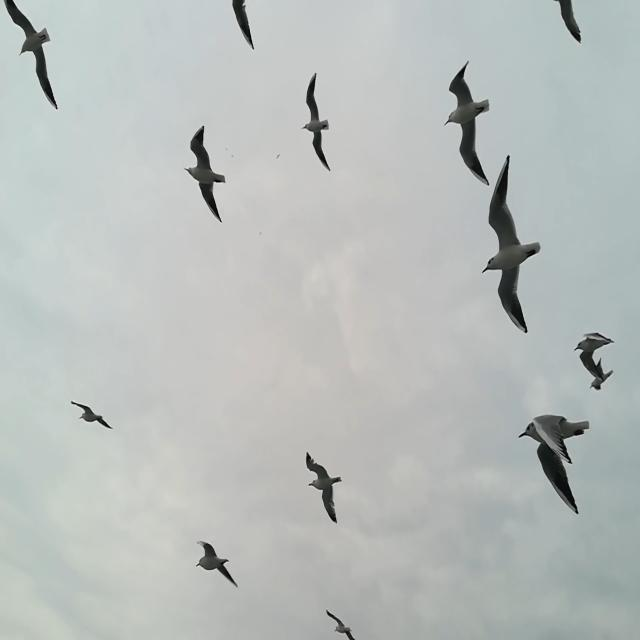bird: (482, 154, 542, 334), (518, 414, 590, 516), (4, 0, 59, 112), (444, 59, 491, 187), (183, 124, 226, 223), (301, 72, 332, 173), (305, 452, 342, 524), (574, 331, 614, 382), (197, 541, 239, 589), (553, 0, 582, 45), (71, 402, 113, 432), (232, 0, 255, 50), (326, 609, 356, 640), (589, 357, 614, 391), (276, 154, 280, 160)
